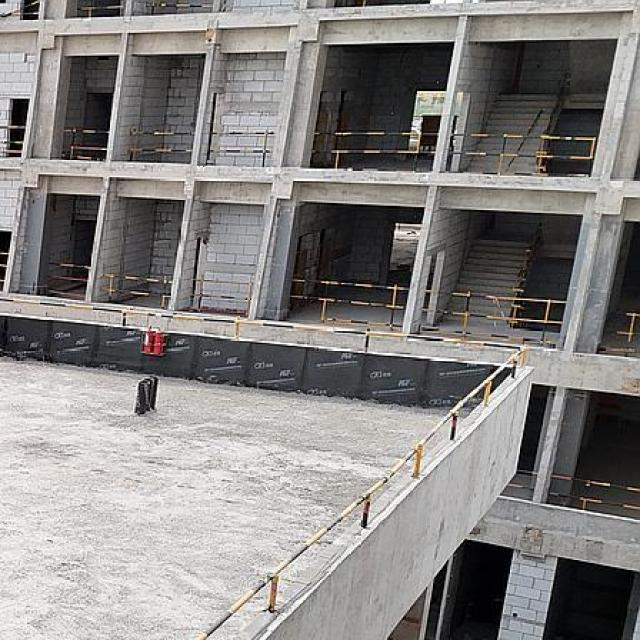edge_guardrail: (0, 288, 525, 640), (417, 287, 569, 346), (448, 130, 598, 180), (288, 276, 411, 328), (309, 131, 442, 172), (547, 472, 640, 511), (190, 272, 256, 314), (98, 272, 173, 308), (207, 129, 276, 168), (36, 262, 94, 302), (128, 129, 196, 162), (58, 127, 112, 157), (603, 310, 640, 344), (66, 2, 124, 18), (506, 467, 541, 492), (0, 122, 24, 154), (0, 0, 41, 17), (144, 0, 214, 9), (0, 251, 10, 285)
